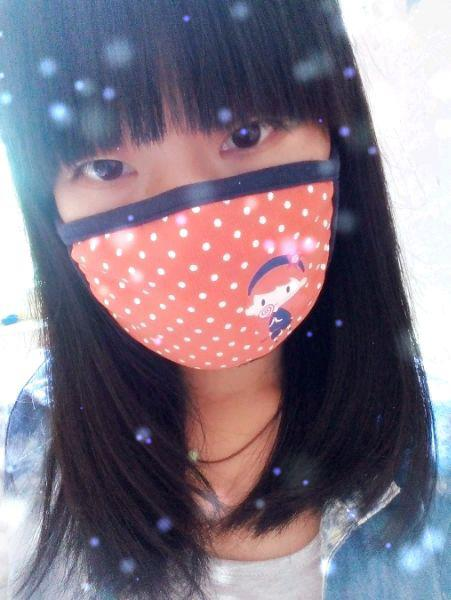OK: (45, 74, 336, 365)
